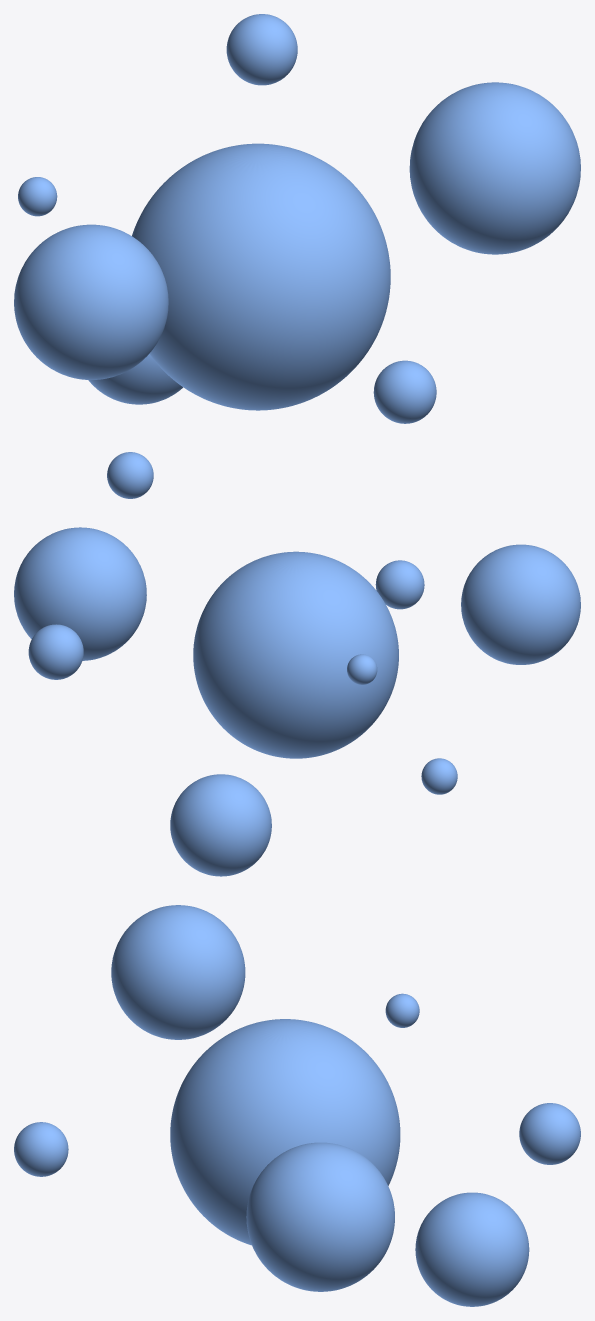
The model's file is pacman_powerup.obj.
3 views of the same model, one above another, from view 1: azimuth 30°, elevation 25°; view 2: azimuth 150°, elevation 25°; view 3: azimuth 270°, elevation 25° (orthographic). The views are drawn at different scales.
Visible parts, largest first — view 1: Sphere, Sphere.002, Sphere.001, Sphere.005, Sphere.007, Sphere.003, Sphere.006, Sphere.004; view 2: Sphere, Sphere.002, Sphere.001, Sphere.003, Sphere.005, Sphere.007, Sphere.006, Sphere.004; view 3: Sphere, Sphere.002, Sphere.001, Sphere.003, Sphere.005, Sphere.007, Sphere.004.
Part boxes in pixels (bbox=[...]): Sphere: bbox=[132, 143, 390, 410]; Sphere.002: bbox=[409, 82, 580, 254]; Sphere.001: bbox=[14, 224, 168, 379]; Sphere.005: bbox=[226, 14, 297, 85]; Sphere.007: bbox=[373, 360, 436, 423]; Sphere.003: bbox=[88, 354, 182, 404]; Sphere.006: bbox=[107, 452, 153, 498]; Sphere.004: bbox=[18, 177, 57, 216]; Sphere: bbox=[193, 551, 398, 758]; Sphere.002: bbox=[14, 527, 146, 660]; Sphere.001: bbox=[461, 544, 580, 664]; Sphere.003: bbox=[170, 774, 271, 876]; Sphere.005: bbox=[28, 624, 83, 679]; Sphere.007: bbox=[375, 560, 424, 609]; Sphere.006: bbox=[421, 758, 457, 794]; Sphere.004: bbox=[347, 654, 377, 684]; Sphere: bbox=[170, 1019, 400, 1245]; Sphere.002: bbox=[246, 1142, 394, 1291]; Sphere.001: bbox=[111, 905, 245, 1039]; Sphere.003: bbox=[415, 1192, 529, 1306]; Sphere.005: bbox=[519, 1103, 580, 1164]; Sphere.007: bbox=[14, 1122, 68, 1176]; Sphere.004: bbox=[385, 993, 419, 1027].
Size of the model in its own units: 5.02 by 2.64 by 4.53.
1 material, 1 textured.
